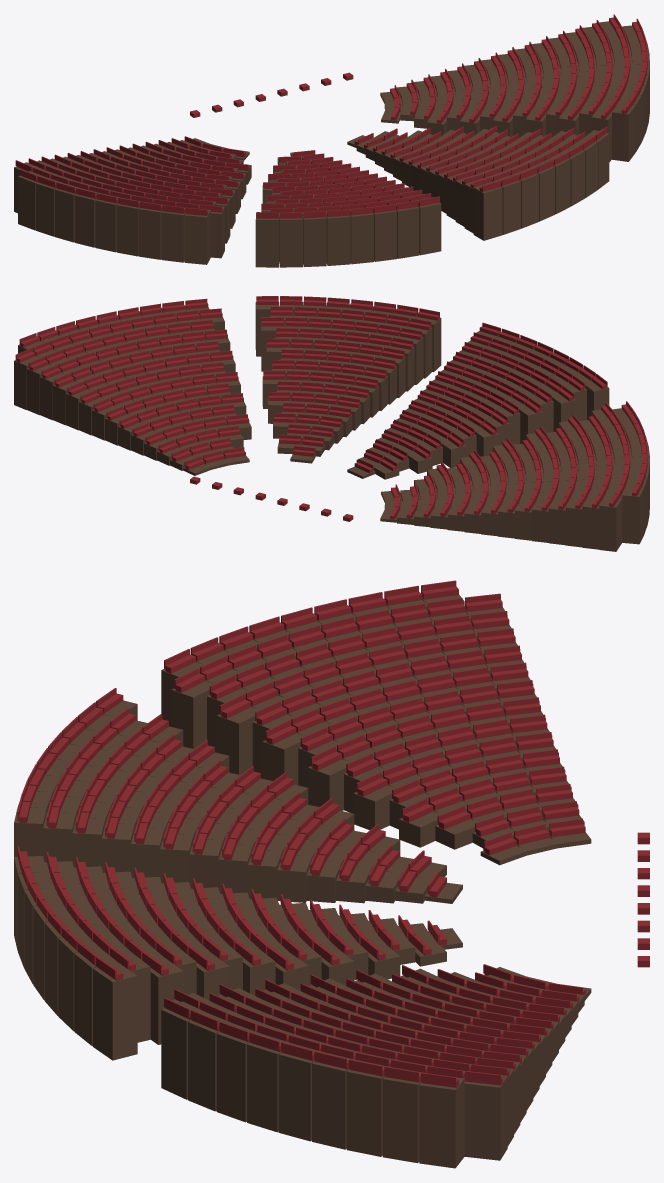
The model's file is plenary-seating.glb.
3 views of the same model, one above another, from view 1: azimuth 30°, elevation 25°; view 2: azimuth 150°, elevation 25°; view 3: azimuth 270°, elevation 25° (orthographic). The views are drawn at different scales.
Parts seen in each view (by area): view 1: Tiers, Seats; view 2: Seats, Tiers; view 3: Tiers, Seats.
Part boxes in pixels (x1,y1,x2,y2): Tiers: [14, 21, 649, 267]; Seats: [15, 14, 647, 218]; Seats: [15, 296, 647, 521]; Tiers: [14, 302, 649, 551]; Tiers: [14, 594, 591, 1168]; Seats: [17, 580, 649, 1087].
Bounding box in the file's own units: 85.32 × 7.08 × 45.83.
